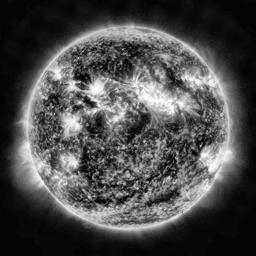solar flares: (133, 82, 180, 114), (57, 112, 82, 134), (182, 73, 213, 88), (89, 80, 107, 103), (58, 155, 82, 172), (200, 148, 218, 169), (111, 106, 129, 122), (67, 78, 83, 96), (51, 63, 61, 82)
sunspots: (94, 59, 130, 76), (132, 108, 147, 143), (73, 51, 89, 83), (78, 147, 94, 176), (164, 62, 181, 89), (87, 116, 105, 139), (161, 151, 175, 178), (120, 44, 143, 59), (153, 190, 177, 204), (43, 95, 62, 110), (196, 133, 215, 147), (166, 124, 184, 138), (91, 193, 111, 204), (115, 194, 134, 204), (99, 42, 111, 57)
